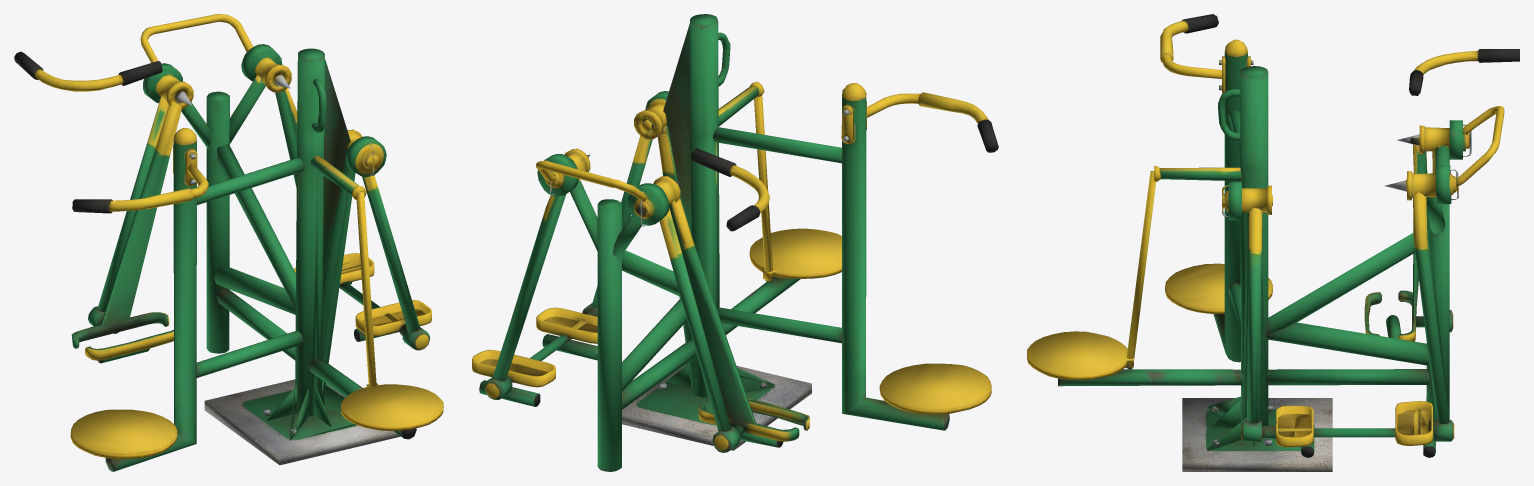
File: fitness.glb
3 renders of one model, left to right at view 1: azimuth 30°, elevation 25°; view 2: azimuth 150°, elevation 25°; view 3: azimuth 270°, elevation 25°, orthographic. The views are drawn at different scales.
Parts seen in each view (by area): view 1: tripo_node_ab134cd5-79f3-4097-be42-0330bdb24023; view 2: tripo_node_ab134cd5-79f3-4097-be42-0330bdb24023; view 3: tripo_node_ab134cd5-79f3-4097-be42-0330bdb24023.
Boxes of the visible parts, <box> form: tripo_node_ab134cd5-79f3-4097-be42-0330bdb24023: <box>14,14,443,471</box>; tripo_node_ab134cd5-79f3-4097-be42-0330bdb24023: <box>472,14,998,471</box>; tripo_node_ab134cd5-79f3-4097-be42-0330bdb24023: <box>1027,14,1519,471</box>.
Bounding box in the file's own units: 0.9355 × 0.8262 × 0.998.
1 material, 1 textured.
